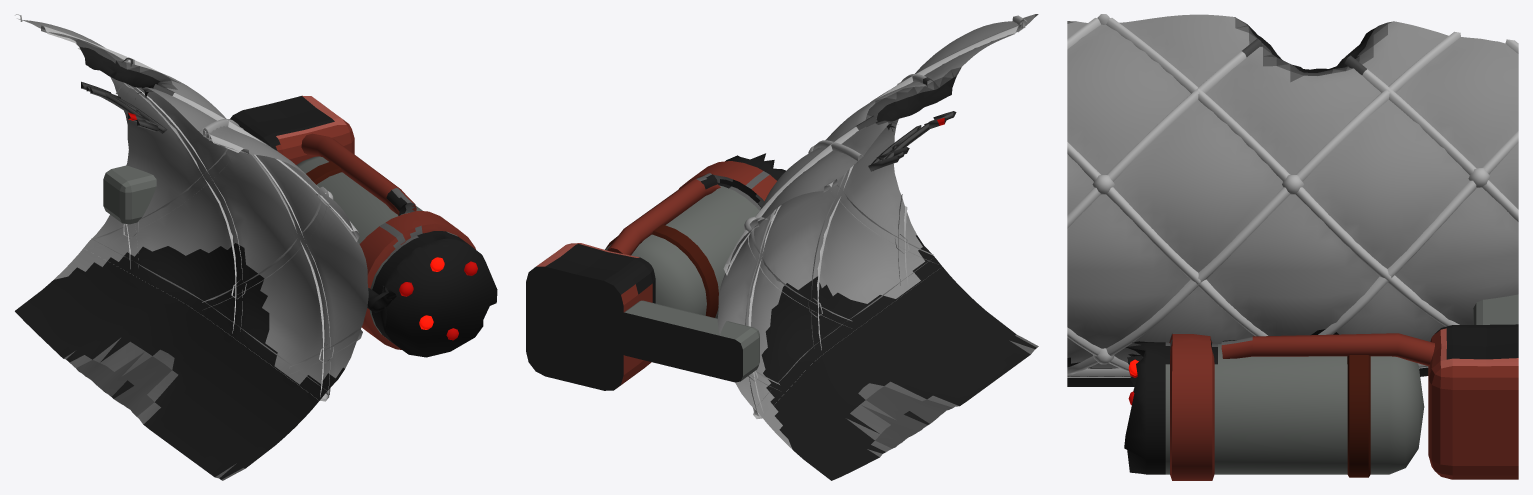
Rendered from zeppelin_91.glb.
3 renders of one model, left to right at view 1: azimuth 30°, elevation 25°; view 2: azimuth 150°, elevation 25°; view 3: azimuth 270°, elevation 25°, orthographic. The views are drawn at different scales.
Parts seen in each view (by area): view 1: envelope.001, gun_body_r.001, net_ropes.001, gun_mount_r.001, gun_band_r.001, gun_pipe_top_r.001, gun_strut_r.001, framework.001; view 2: envelope.001, gun_mount_r.001, gun_body_r.001, gun_strut_r.001, net_ropes.001, gun_pipe_top_r.001, gun_band_r.001, gun_band3_r.001, framework.001; view 3: envelope.001, gun_body_r.001, net_ropes.001, gun_mount_r.001, gun_band_r.001, gun_pipe_top_r.001, gun_band3_r.001, gun_strut_r.001, net_knots.001, net_load.001.
Part boxes in pixels (bbox=[...]): envelope.001: bbox=[15, 18, 368, 480]; gun_body_r.001: bbox=[296, 156, 497, 357]; net_ropes.001: bbox=[15, 14, 362, 399]; gun_mount_r.001: bbox=[230, 95, 354, 164]; gun_band_r.001: bbox=[359, 211, 475, 349]; gun_pipe_top_r.001: bbox=[301, 133, 416, 215]; gun_strut_r.001: bbox=[103, 165, 156, 224]; framework.001: bbox=[81, 81, 167, 133]; envelope.001: bbox=[717, 14, 1038, 480]; gun_mount_r.001: bbox=[526, 243, 655, 390]; gun_body_r.001: bbox=[605, 153, 785, 318]; gun_strut_r.001: bbox=[617, 300, 759, 382]; net_ropes.001: bbox=[723, 15, 1027, 416]; gun_pipe_top_r.001: bbox=[607, 173, 720, 255]; gun_band_r.001: bbox=[678, 161, 776, 207]; gun_band3_r.001: bbox=[605, 224, 718, 317]; framework.001: bbox=[868, 111, 956, 171]; envelope.001: bbox=[1067, 14, 1518, 386]; gun_body_r.001: bbox=[1124, 341, 1424, 474]; net_ropes.001: bbox=[1067, 18, 1518, 374]; gun_mount_r.001: bbox=[1428, 324, 1518, 479]; gun_band_r.001: bbox=[1169, 333, 1214, 480]; gun_pipe_top_r.001: bbox=[1221, 333, 1434, 365]; gun_band3_r.001: bbox=[1347, 355, 1370, 477]; gun_strut_r.001: bbox=[1473, 294, 1518, 324]; net_knots.001: bbox=[1092, 14, 1490, 364]; net_load.001: bbox=[1067, 363, 1428, 377].
Size of the model in its own units: 23.8 by 25.4 by 28.
